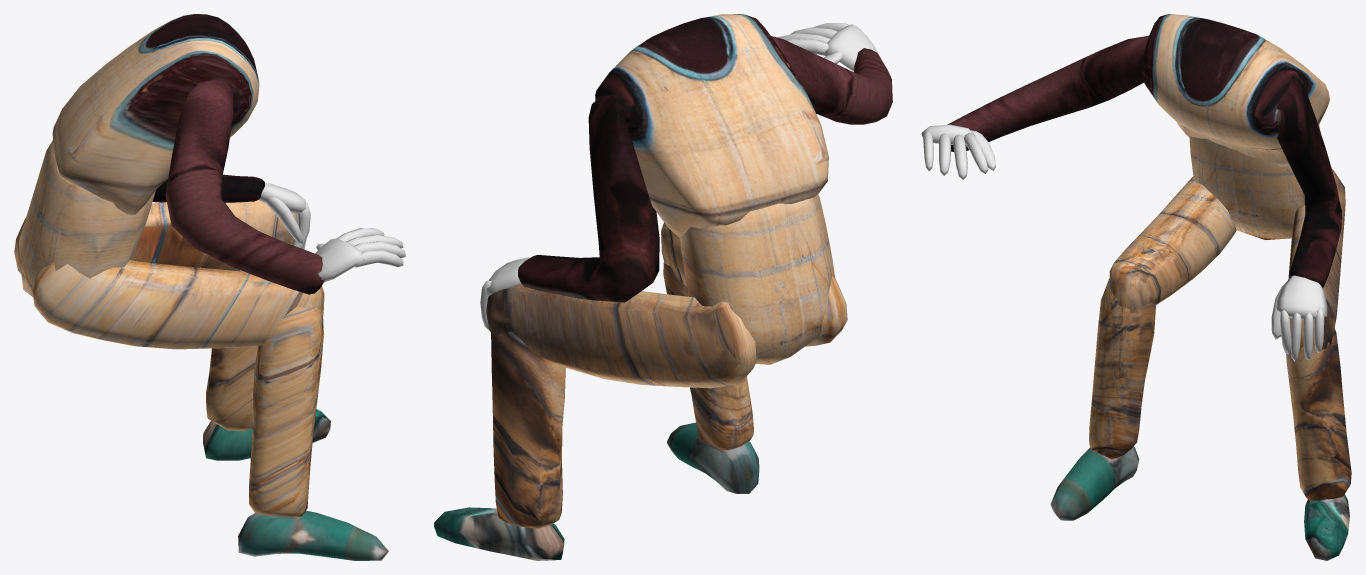
File: SM_Holfred00.fbx
3 views of the same model, side by side, from view 1: azimuth 30°, elevation 25°; view 2: azimuth 150°, elevation 25°; view 3: azimuth 270°, elevation 25° (orthographic). The views are drawn at different scales.
Parts seen in each view (by area): view 1: SM_Holfred00; view 2: SM_Holfred00; view 3: SM_Holfred00.
Part boxes in pixels (x1,y1,x2,y2): SM_Holfred00: (14, 14, 405, 560); SM_Holfred00: (434, 14, 892, 560); SM_Holfred00: (921, 14, 1351, 560).
Size of the model in its own units: 109 by 149 by 128.
